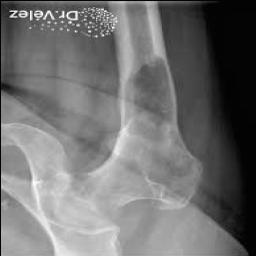cancer: (121, 52, 180, 149)
